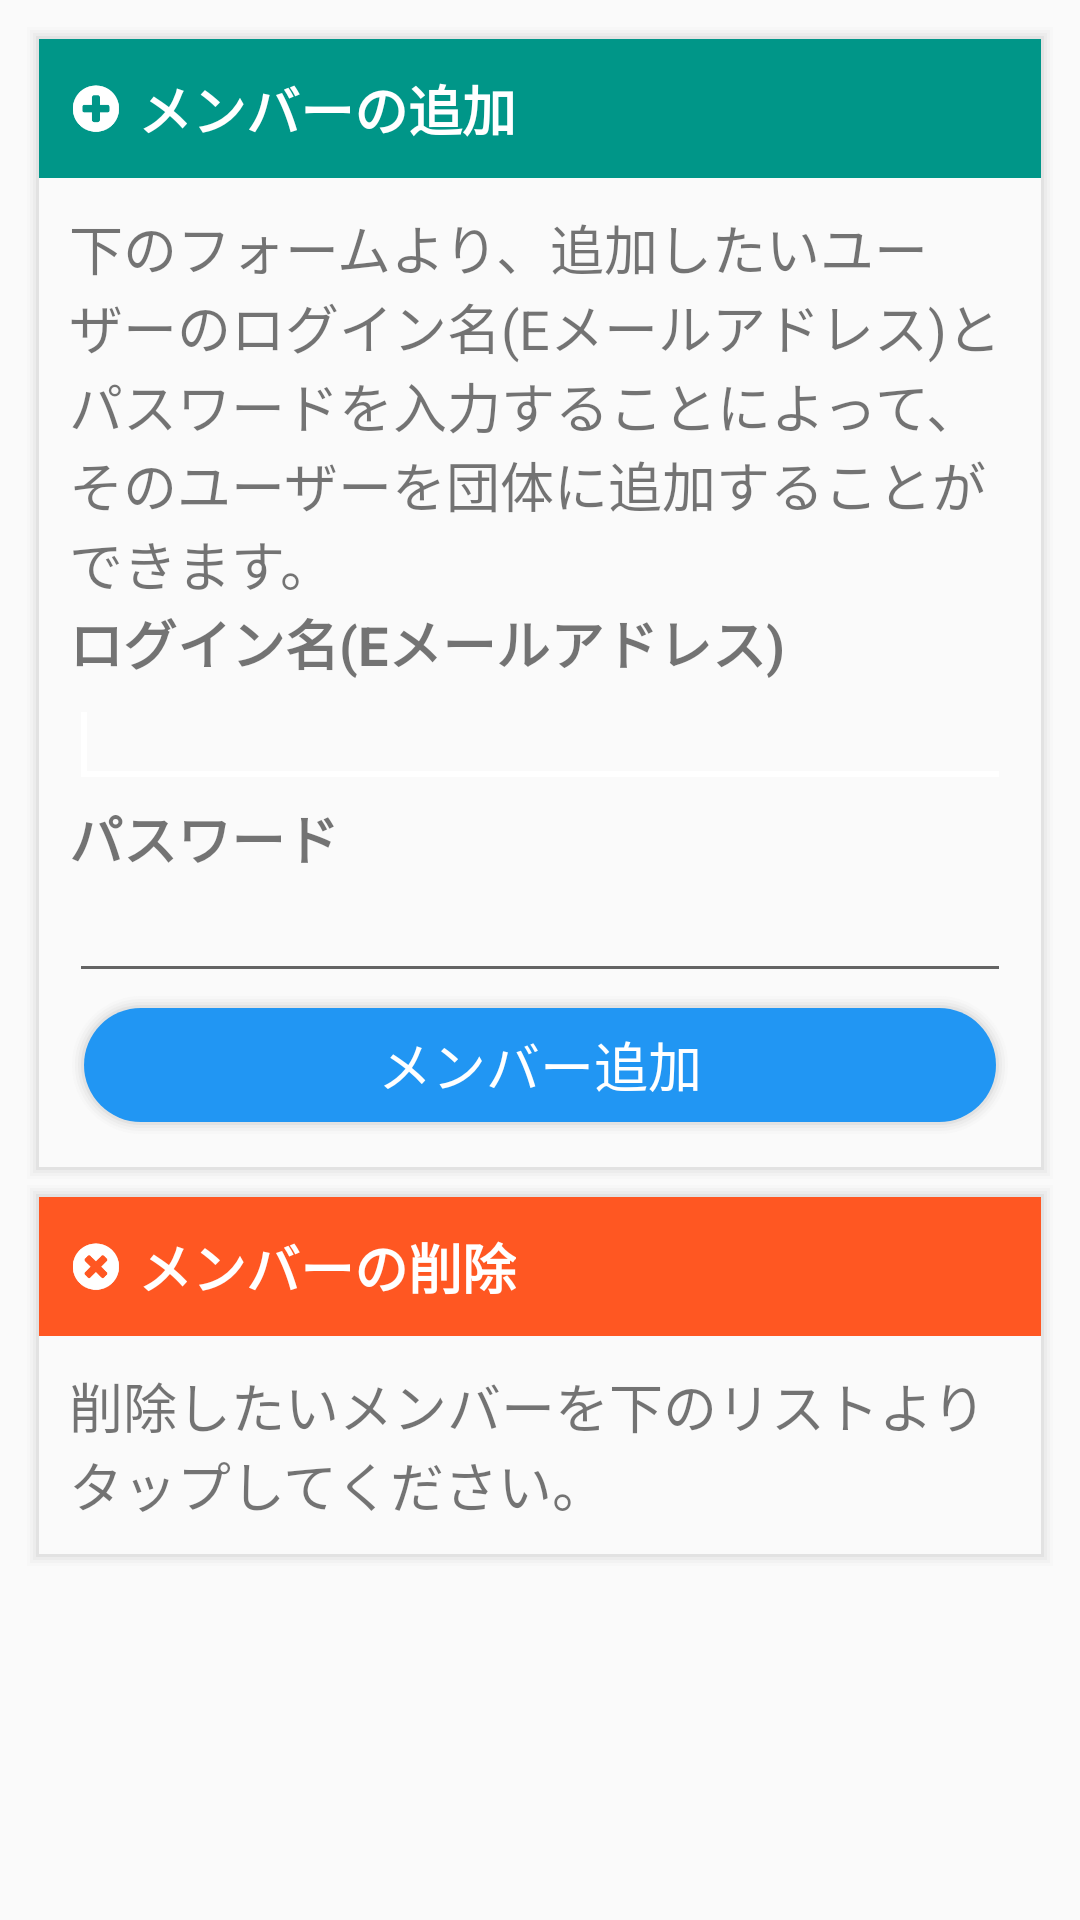

Icon bounding boxes for this 1080x1920 phone screenshot, format (x1, y1, x2, y2):
plus: (73, 85, 119, 132)
times: (73, 1243, 119, 1290)
